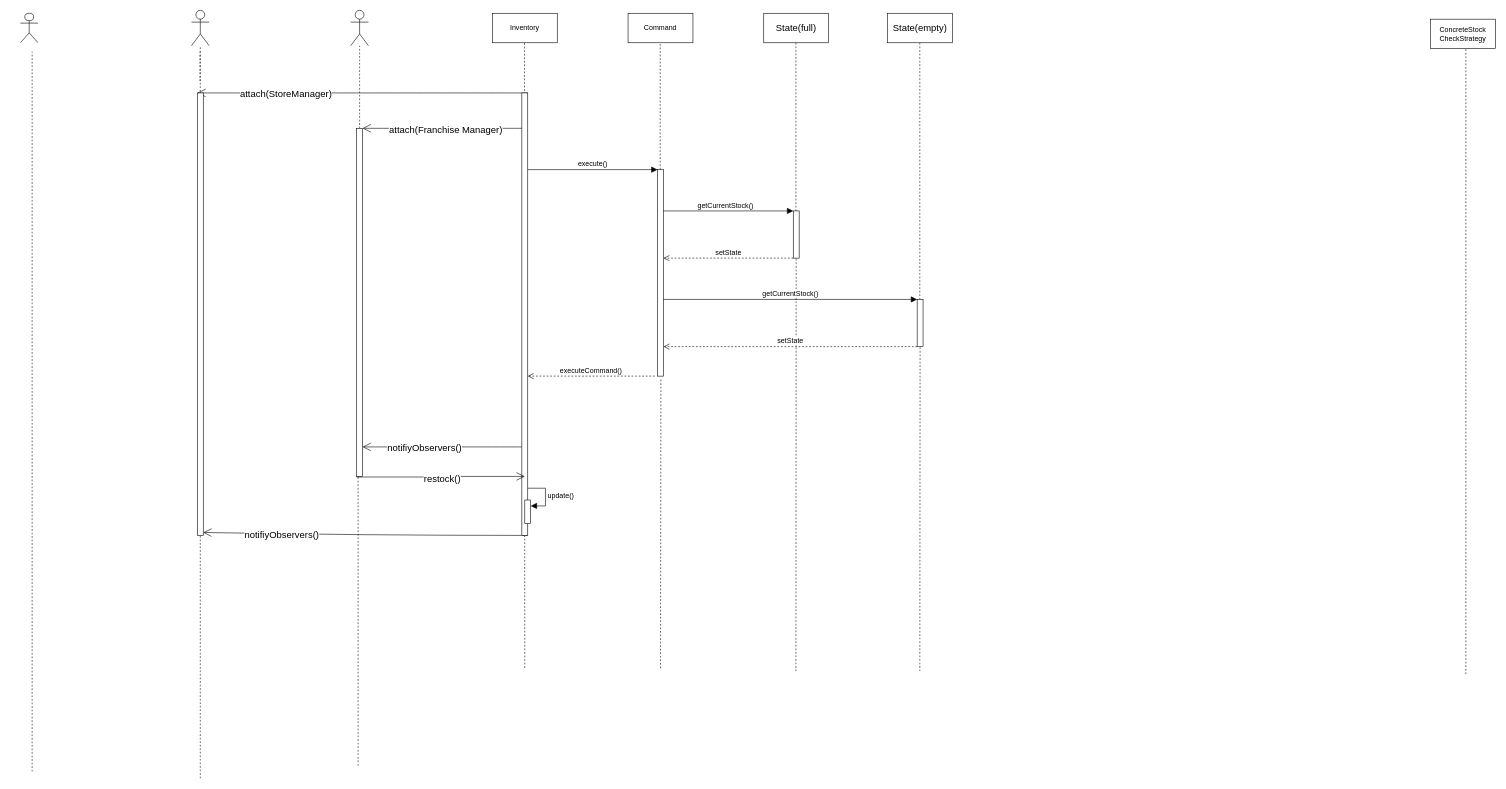
Image size: 1506x789. Some labels were removed from this diagram. Here are the shapes that lost their labels. From the top down, the centre of each, then its label:
At point 29,28: "Assistant".
At point 200,28: "Store Manager".
At point 359,28: "Franchise Manager".
